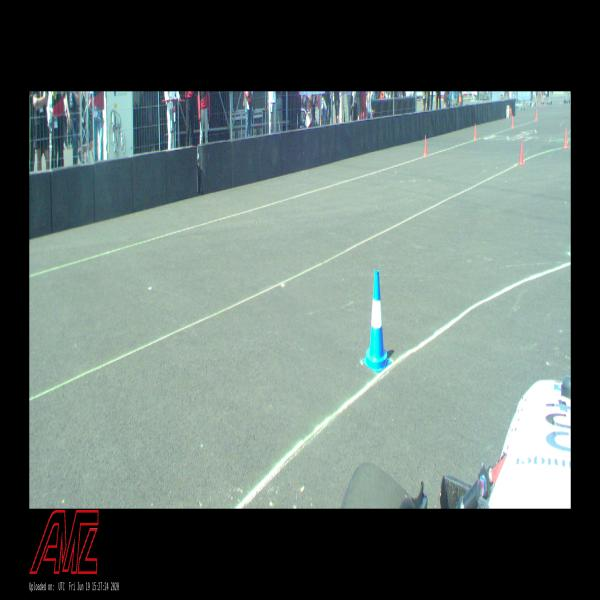blue_cone: (362, 271, 392, 372)
unknown_cone: (562, 128, 568, 148), (519, 141, 524, 165), (423, 137, 427, 156), (511, 115, 514, 127), (474, 124, 476, 139), (536, 110, 538, 120), (511, 108, 512, 117)
